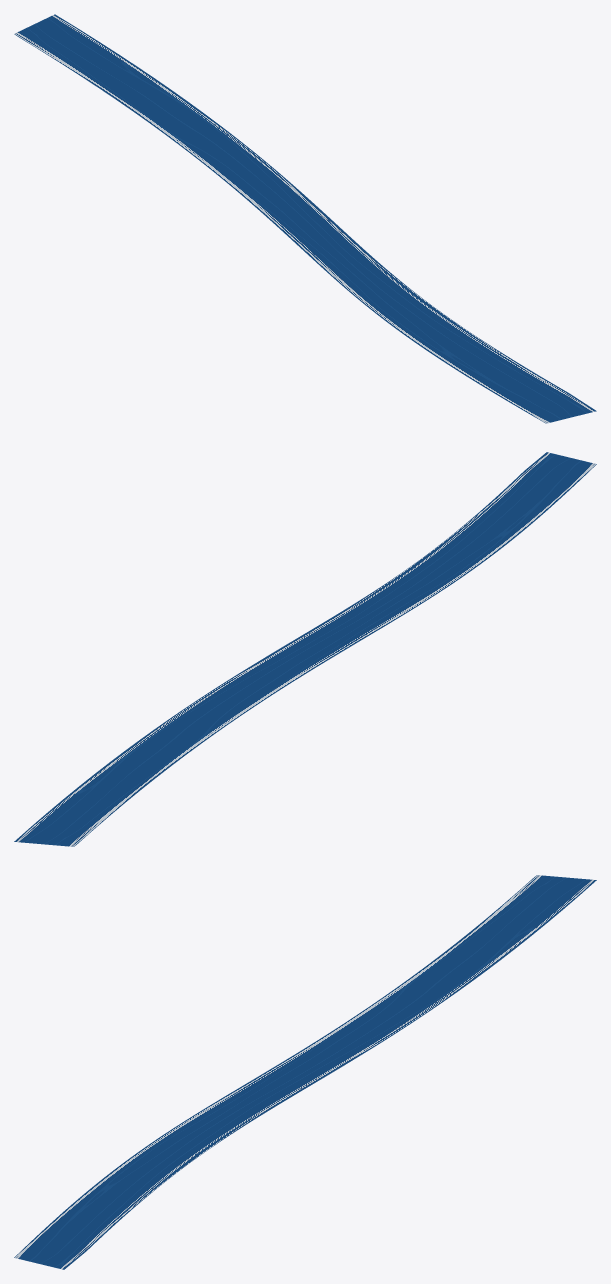
Rendered from river.obj.
3 views of the same model, one above another, from view 1: azimuth 30°, elevation 25°; view 2: azimuth 150°, elevation 25°; view 3: azimuth 330°, elevation 25° (orthographic).
Parts seen in each view (by area): view 1: NurbsPath_Mesh; view 2: NurbsPath_Mesh; view 3: NurbsPath_Mesh.
Part boxes in pixels (<box>): NurbsPath_Mesh: <box>14,14,596,423</box>; NurbsPath_Mesh: <box>14,452,596,846</box>; NurbsPath_Mesh: <box>14,875,596,1269</box>.
Size of the model in its own units: 1.49 by 0 by 18.21.
1 material, 1 textured.
